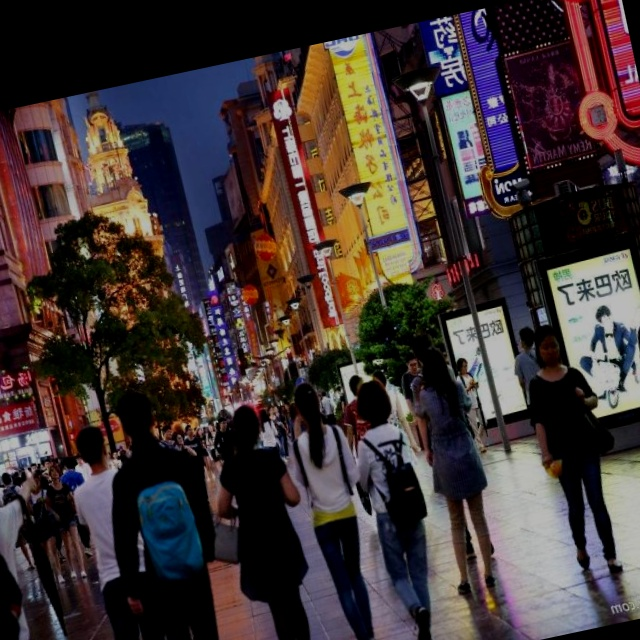Sin_Casco_Mascarrilla: (529, 325, 568, 372)
